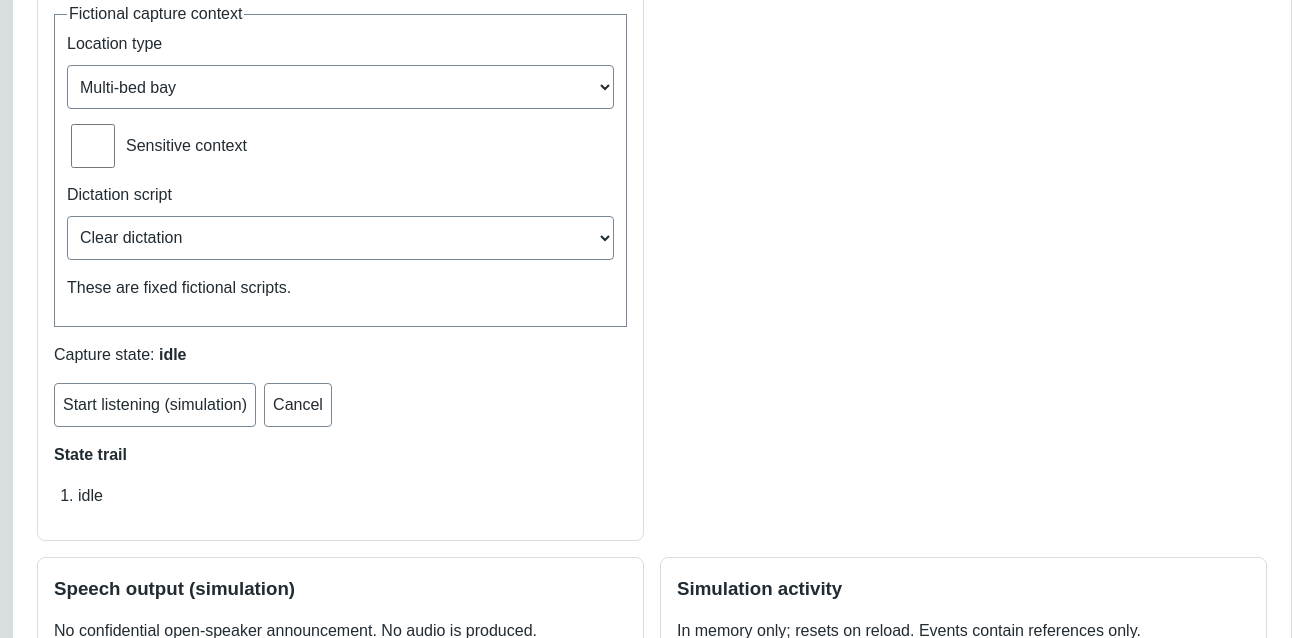
Test: returns focus after cancellation from review-required
(page scrolled)
Click the button "Start listening (simulation)".
click(155, 405)  # box [54, 383, 256, 427]
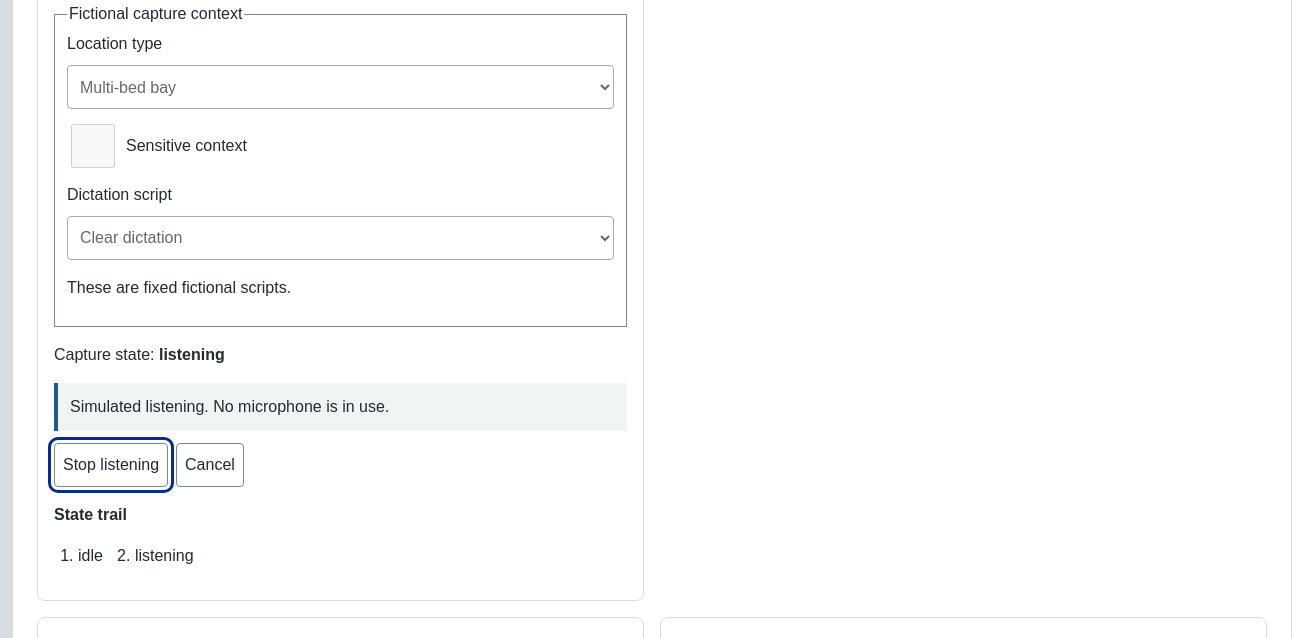
Click the button "Stop listening".
click(111, 465)  # box [54, 443, 168, 487]
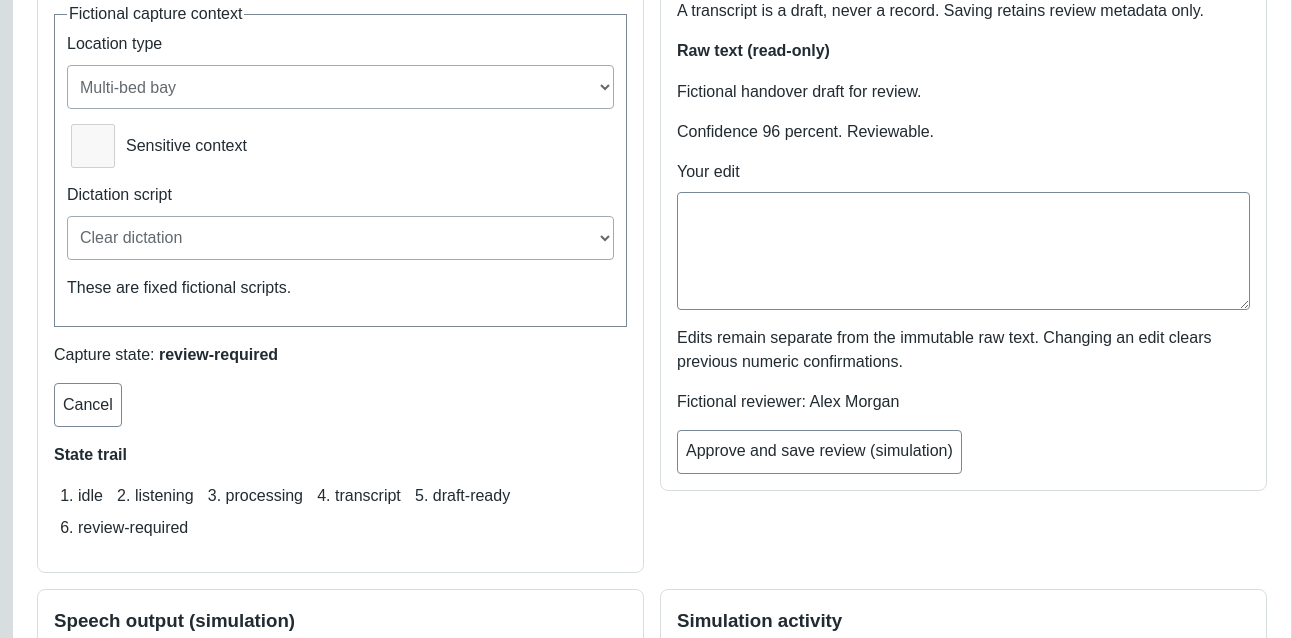
Click the button "Cancel".
click(88, 405)  # box [54, 383, 122, 427]
(page scrolled)
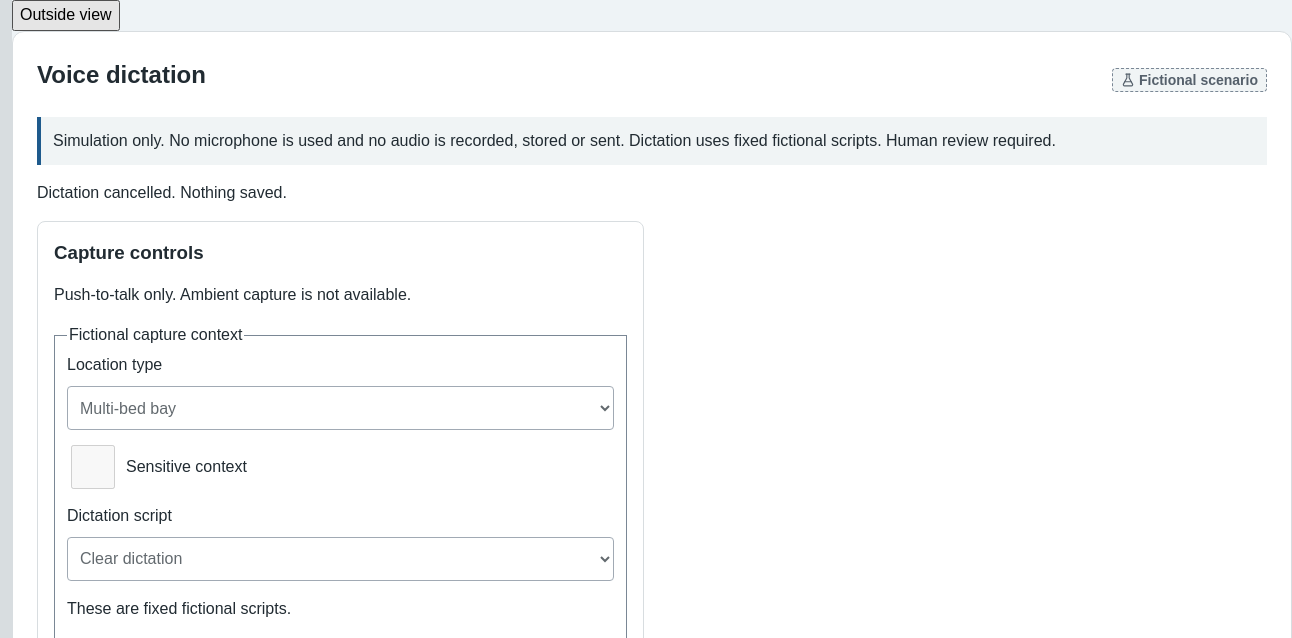
Expected: the message reads "Dictation cancelled. Nothing saved.", [37, 184, 287, 201]
